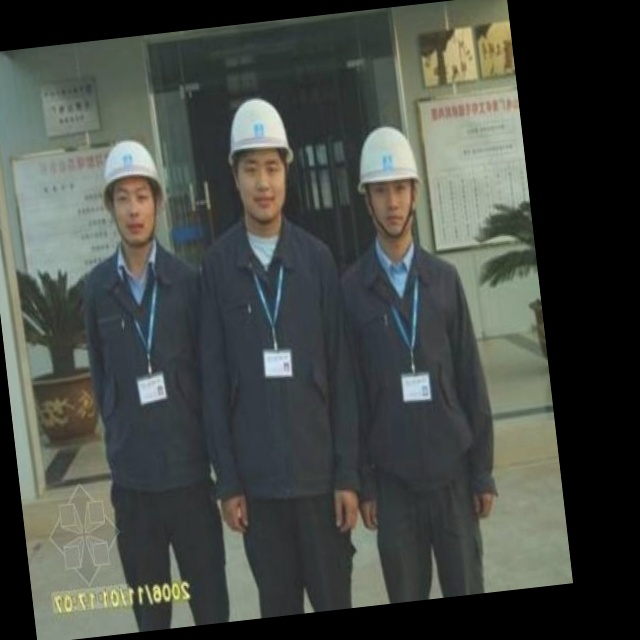Sin_Chaleco: (193, 210, 368, 504), (337, 233, 486, 499)
